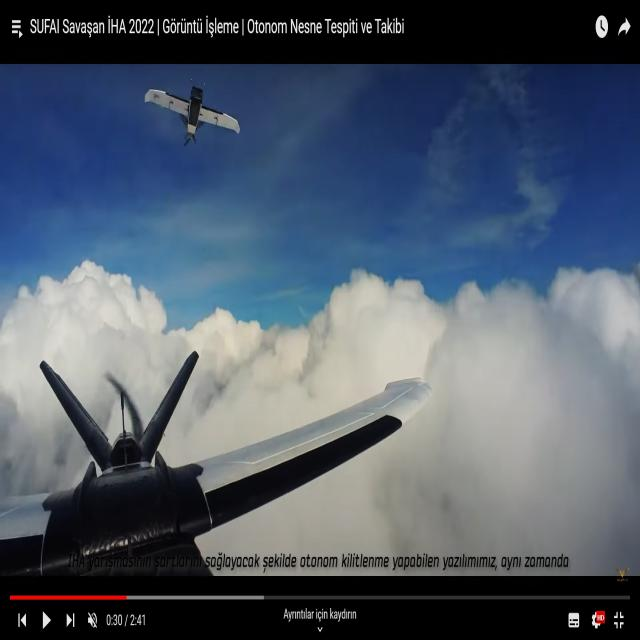iha: (175, 50, 212, 52)
